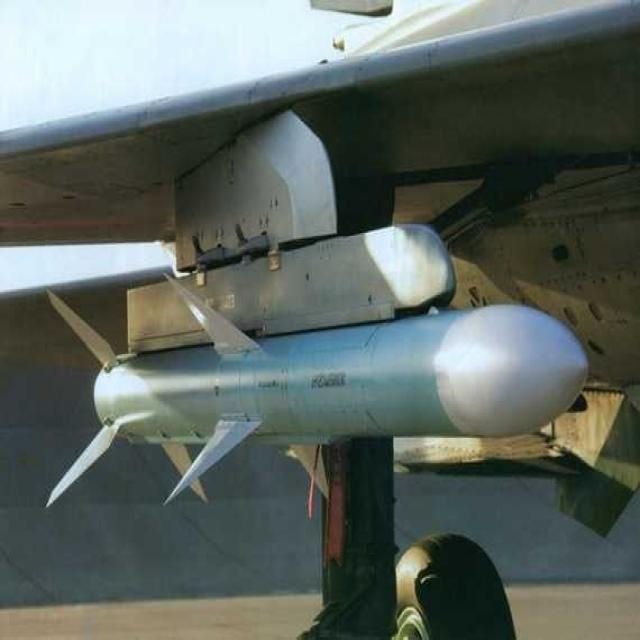missile: (41, 280, 589, 497)
